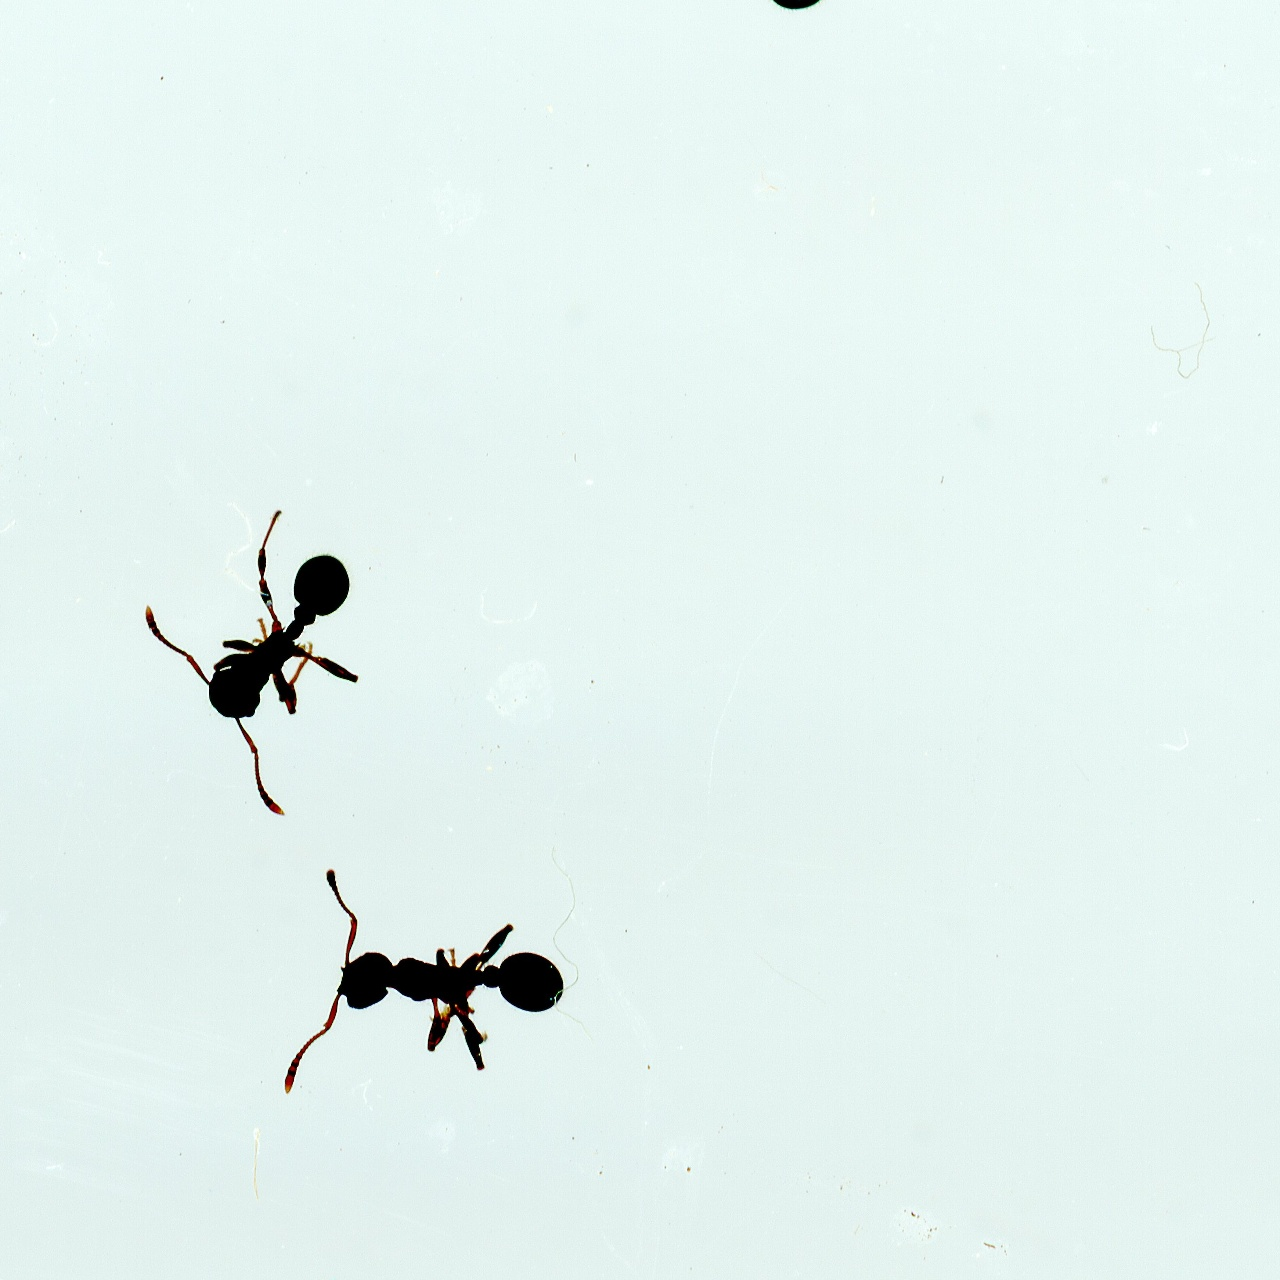arthropod: (120, 483, 456, 829), (261, 862, 579, 1106)
